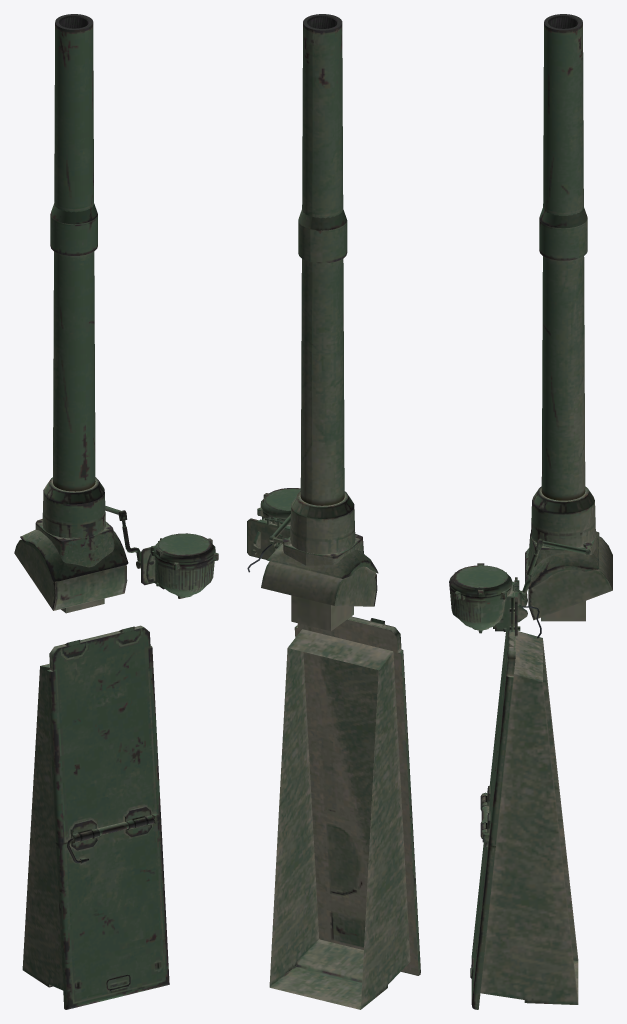
File: Gun_02.glb
3 renders of one model, left to right at view 1: azimuth 30°, elevation 25°; view 2: azimuth 150°, elevation 25°; view 3: azimuth 270°, elevation 25°, orthographic. The views are drawn at different scales.
Visible parts, largest first — view 1: set_0_group_0; view 2: set_0_group_0; view 3: set_0_group_0.
Boxes of the visible parts, left/top/right/bottom form: set_0_group_0: left=14, top=14, right=218, bottom=1009; set_0_group_0: left=247, top=14, right=420, bottom=1009; set_0_group_0: left=449, top=14, right=612, bottom=1009.
Size of the model in its own units: 0.9727 by 5.91 by 0.9118.
Materials: 1 (1 with a texture image).
